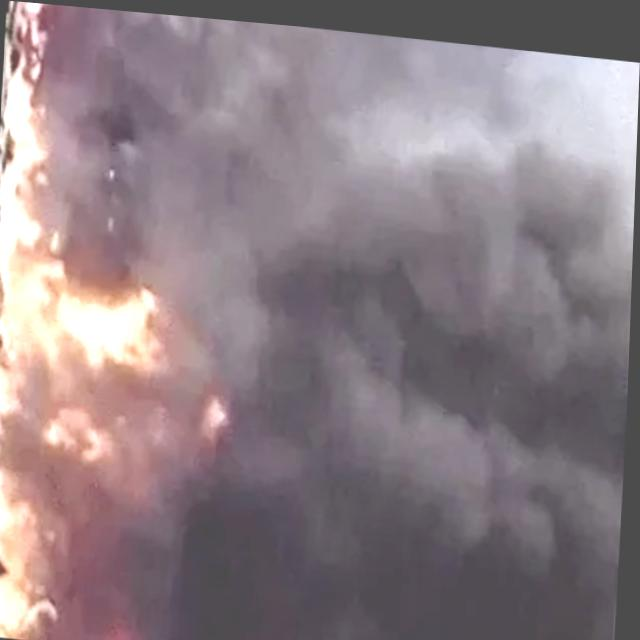Smoke: (22, 3, 640, 640)
